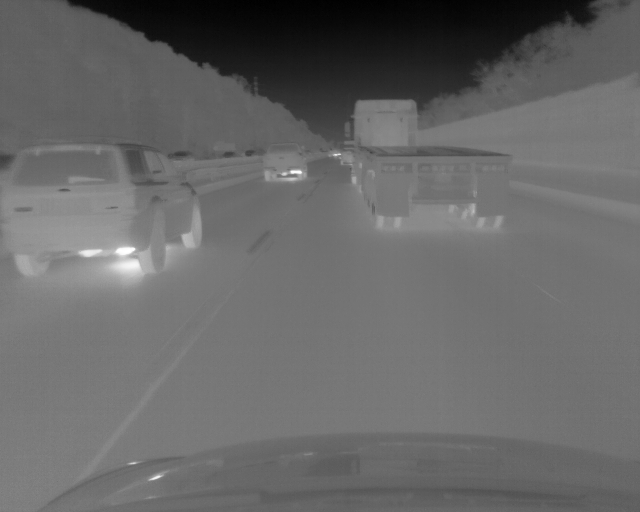car: (3, 142, 203, 277), (343, 98, 514, 229), (264, 143, 307, 181), (167, 150, 191, 160), (341, 151, 353, 165), (221, 150, 235, 159), (244, 150, 255, 156)
